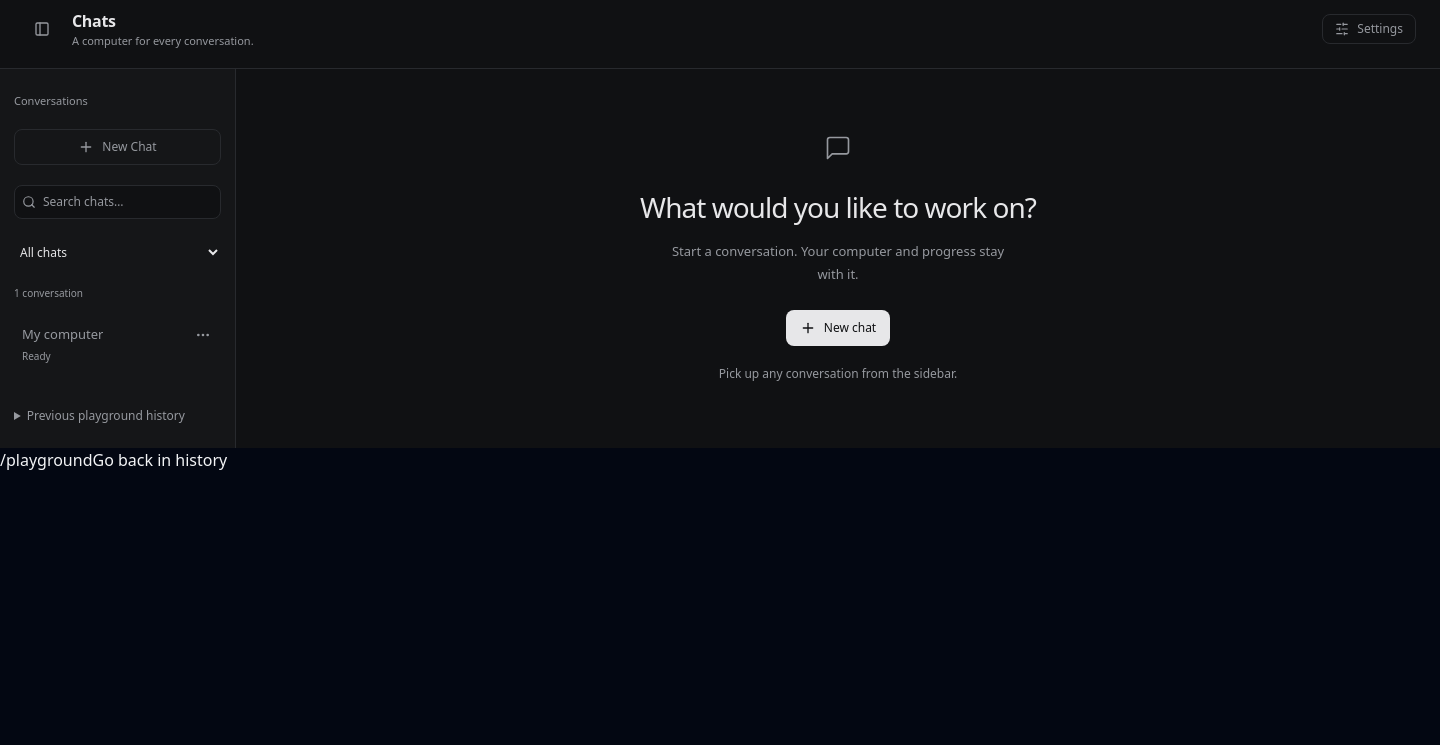
Test case: checked computer creation › requires a new check after changing tools
Click the button "Settings": [1369, 29] box top-left (1322, 14), bottom-right (1416, 44)
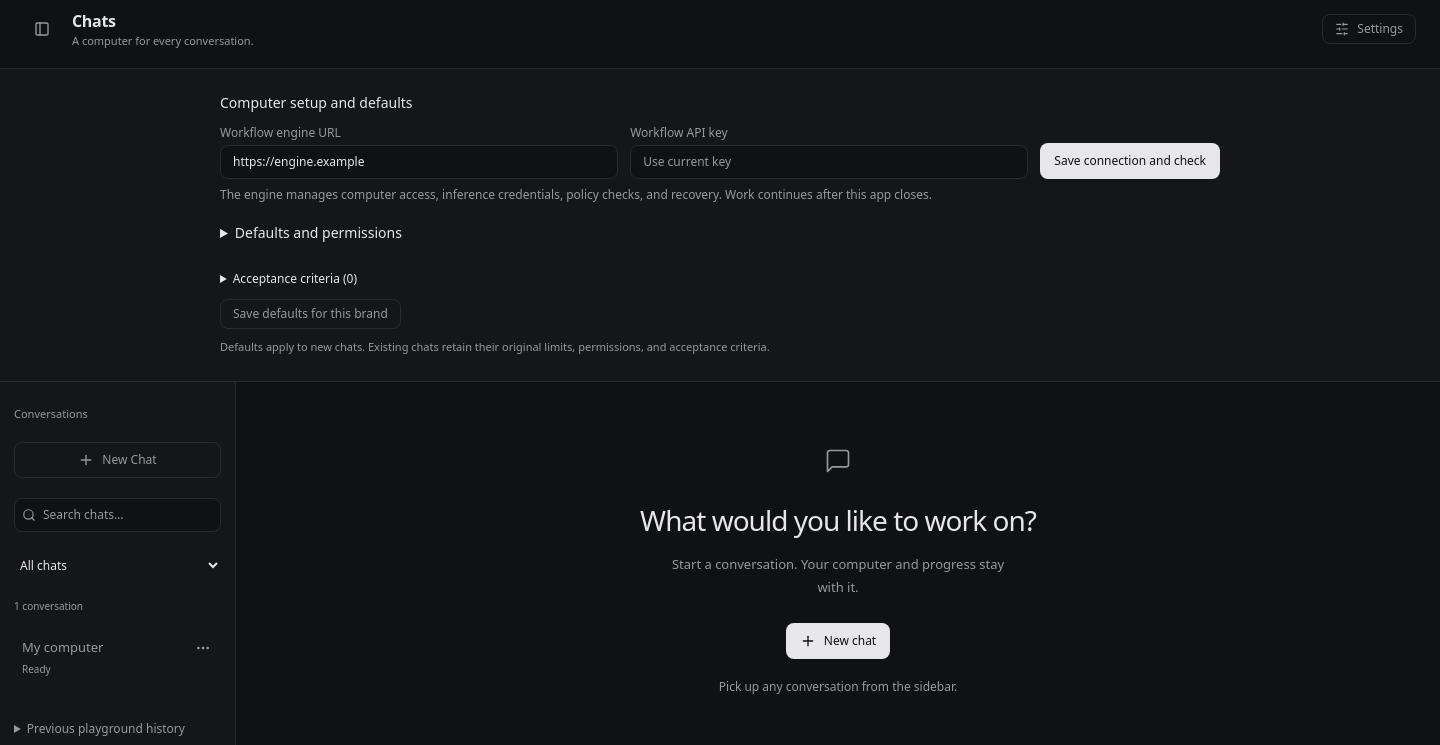
Click the button "Save connection and check": [1130, 160] box top-left (1040, 142), bottom-right (1220, 178)
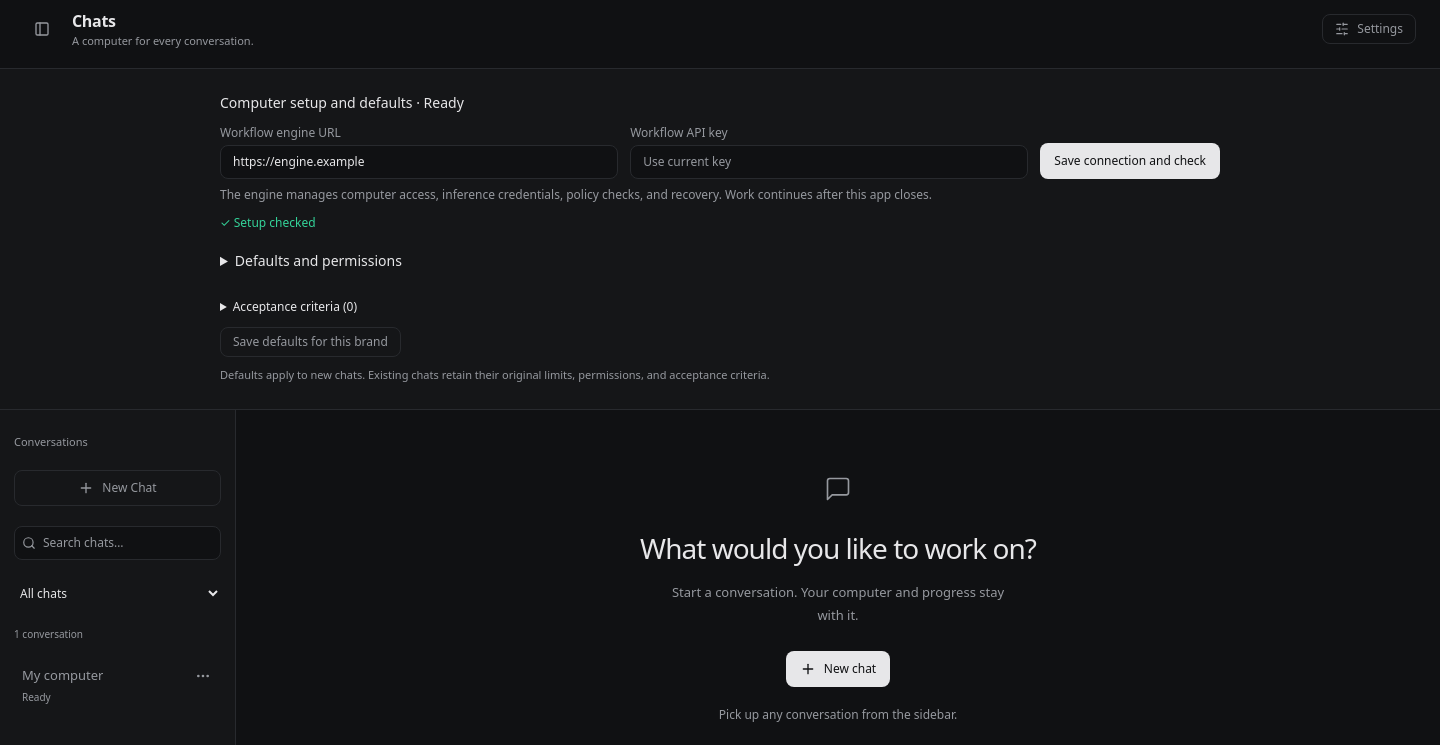
Expected: the list item "✓ Setup checked" is shown, top-left (220, 214), bottom-right (316, 230)
Click the heading "Defaults and permissions": [318, 260] box top-left (235, 250), bottom-right (402, 270)
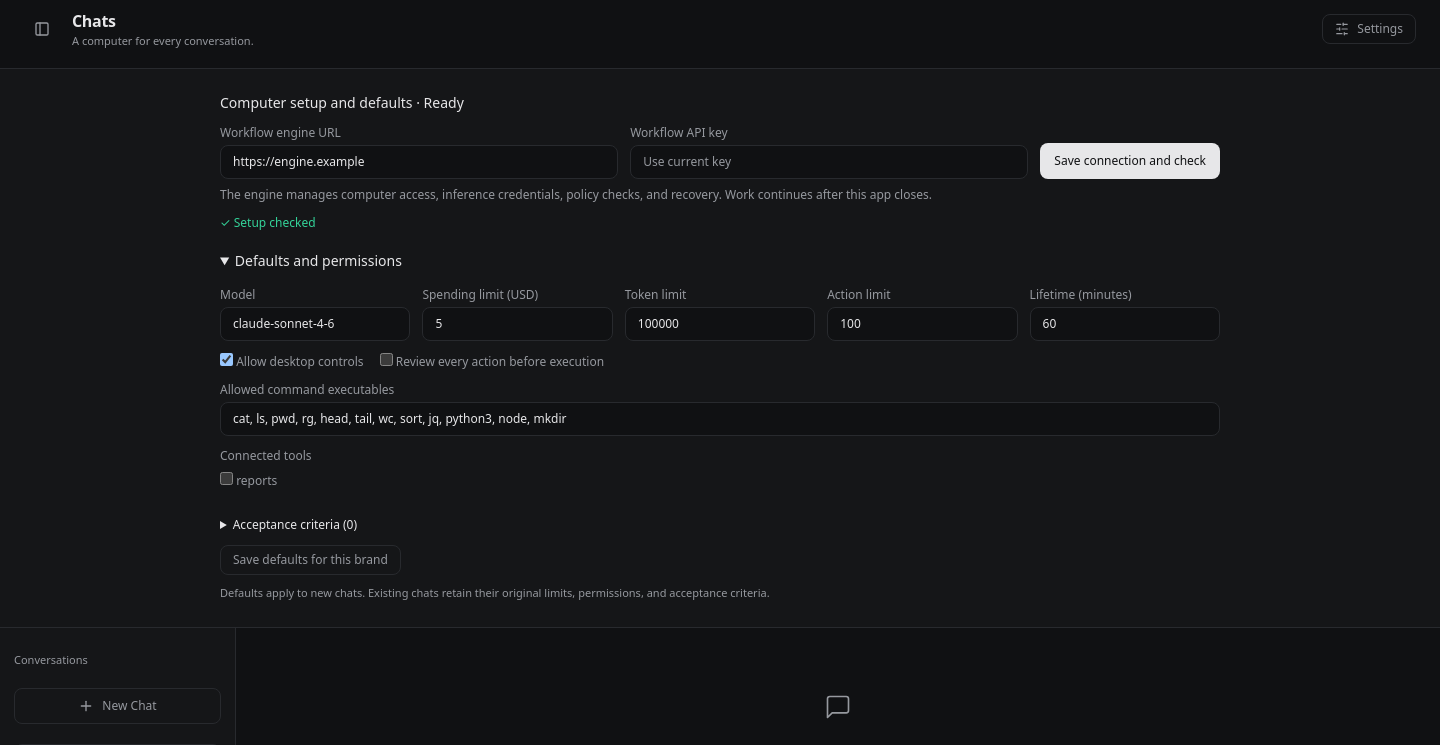
Click the checkbox labelled "reports": [226, 478] box top-left (220, 472), bottom-right (233, 484)
(page scrolled)
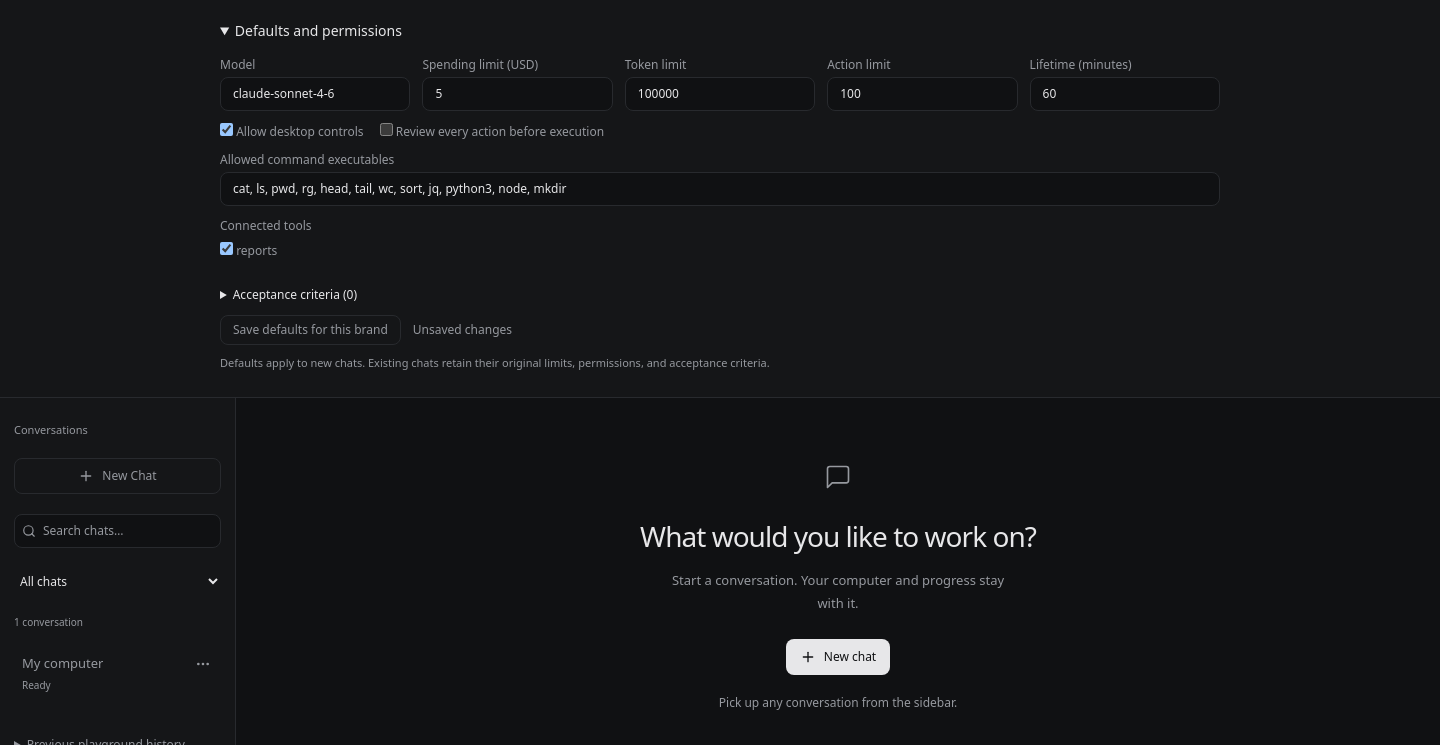
Click the button "New chat": [838, 657] box top-left (786, 639), bottom-right (890, 675)
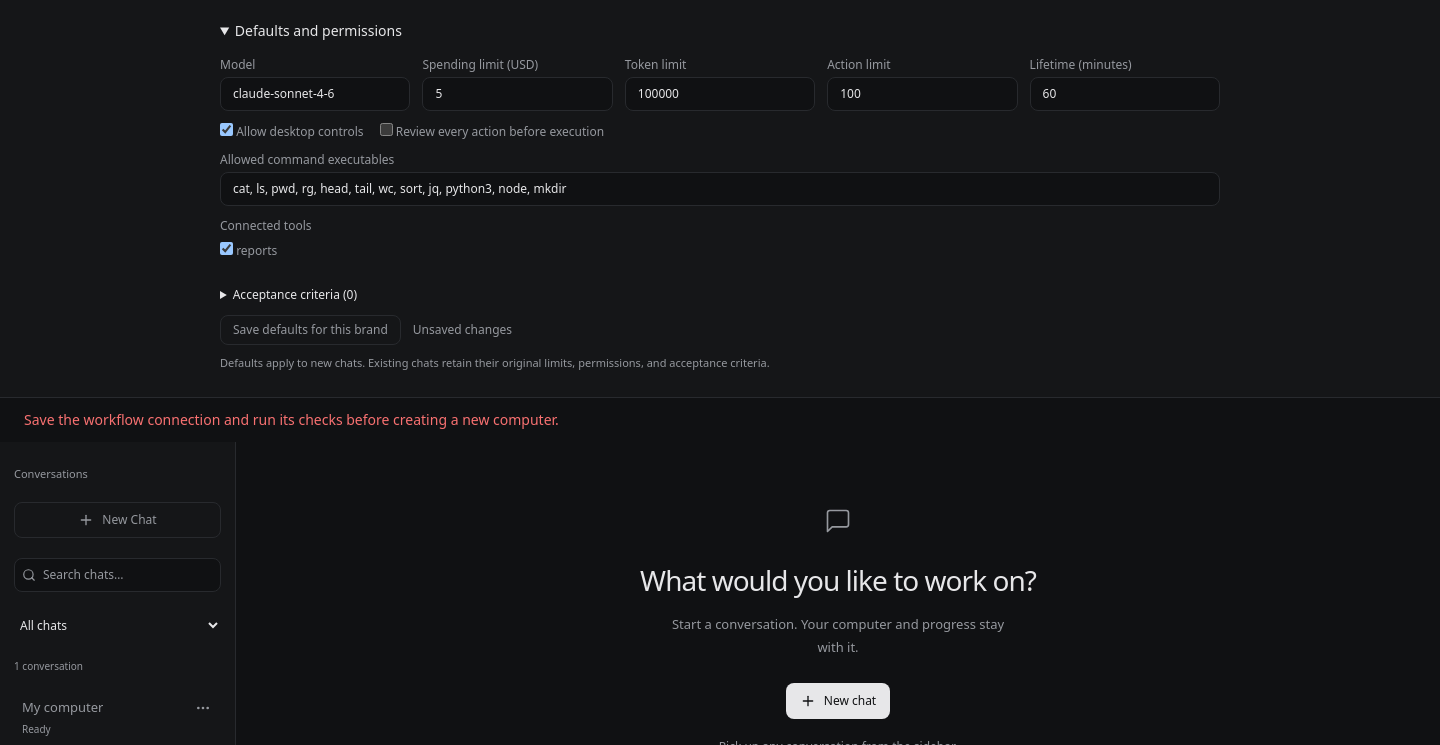
Expected: the 2nd message shows "run its checks", top-left (24, 410), bottom-right (559, 428)
